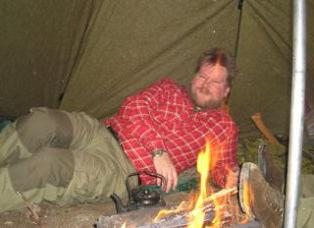fire: (173, 146, 253, 228)
